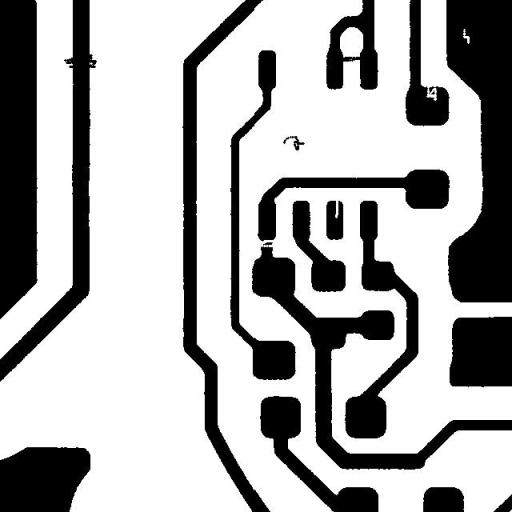copper: (275, 128, 312, 158)
mousebite: (418, 71, 444, 108), (327, 190, 346, 226)
open: (249, 232, 285, 254)
pin-hole: (455, 21, 477, 51)
short: (328, 49, 372, 69)
spur: (56, 46, 104, 76)
